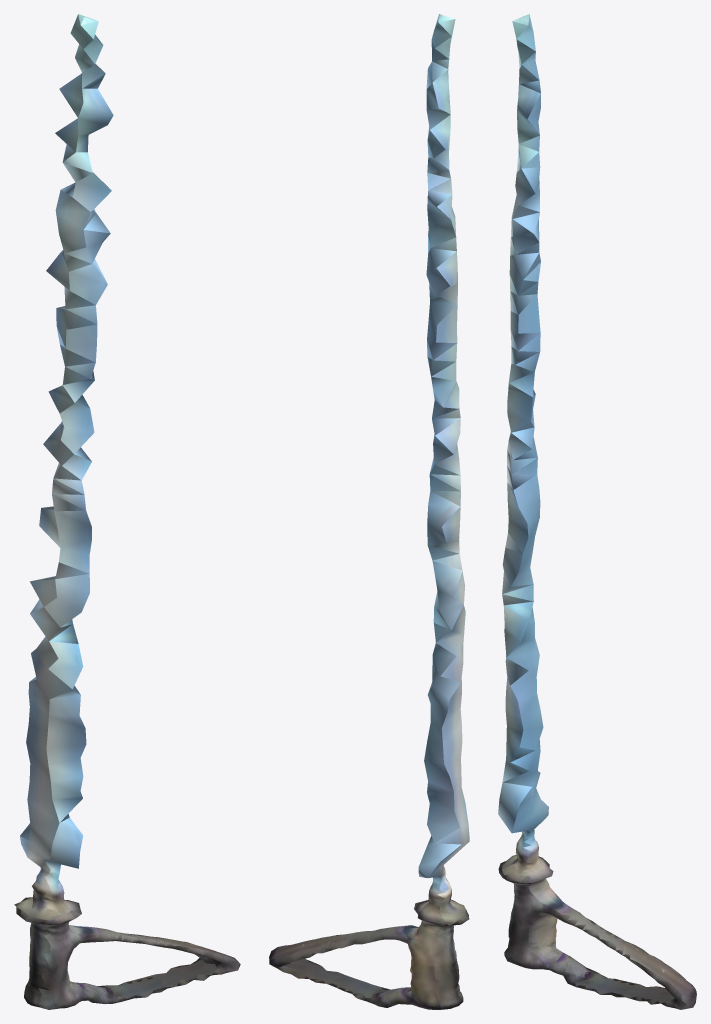
Rendered from lightsaber1.glb.
The picture shows the model from 3 angles, left to right: view 1: azimuth 30°, elevation 25°; view 2: azimuth 150°, elevation 25°; view 3: azimuth 330°, elevation 25°; orthographic projection. The views are drawn at different scales.
Parts seen in each view (by area): view 1: geometry_0.010; view 2: geometry_0.010; view 3: geometry_0.010.
Part boxes in pixels (box(x1,y1,x2,y2)): geometry_0.010: box(14, 14, 240, 1009); geometry_0.010: box(269, 14, 469, 1009); geometry_0.010: box(498, 14, 696, 1009).
Size of the model in its own units: 0.1926 by 0.8824 by 0.0837.
1 material, 1 textured.
